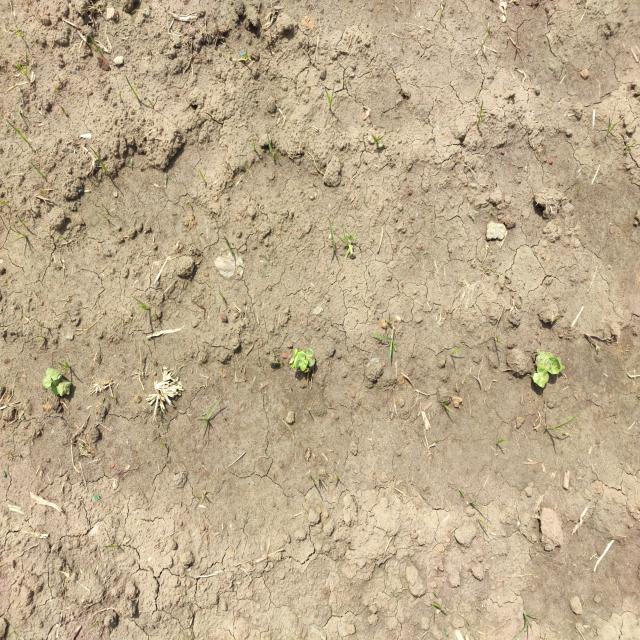seedling_s1: (536, 355, 552, 370), (537, 365, 549, 383), (532, 373, 546, 388), (294, 351, 306, 368), (46, 369, 63, 380), (306, 348, 315, 366), (536, 349, 553, 358), (42, 374, 52, 389), (61, 379, 71, 394), (549, 357, 560, 370), (58, 382, 66, 397), (299, 358, 308, 371), (548, 366, 561, 374), (51, 378, 61, 388), (51, 386, 62, 395)
